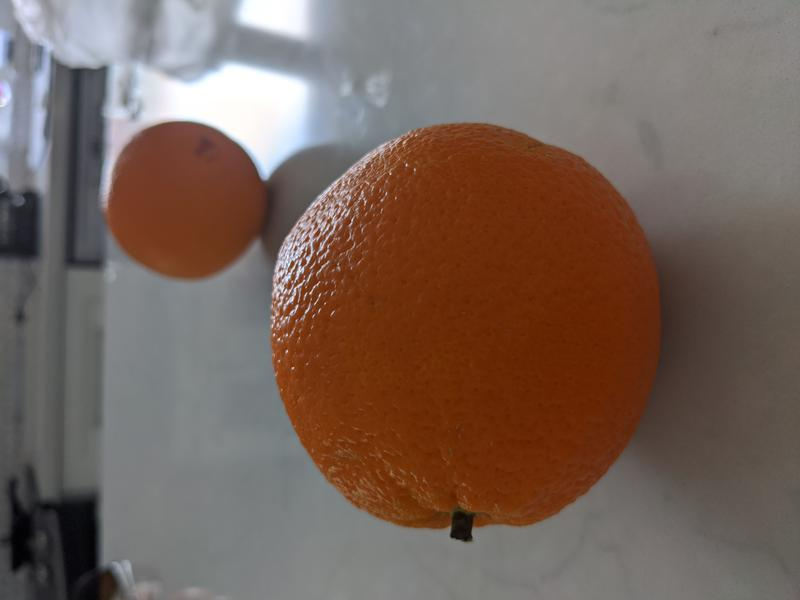orange: (268, 123, 663, 530), (103, 119, 270, 282)
